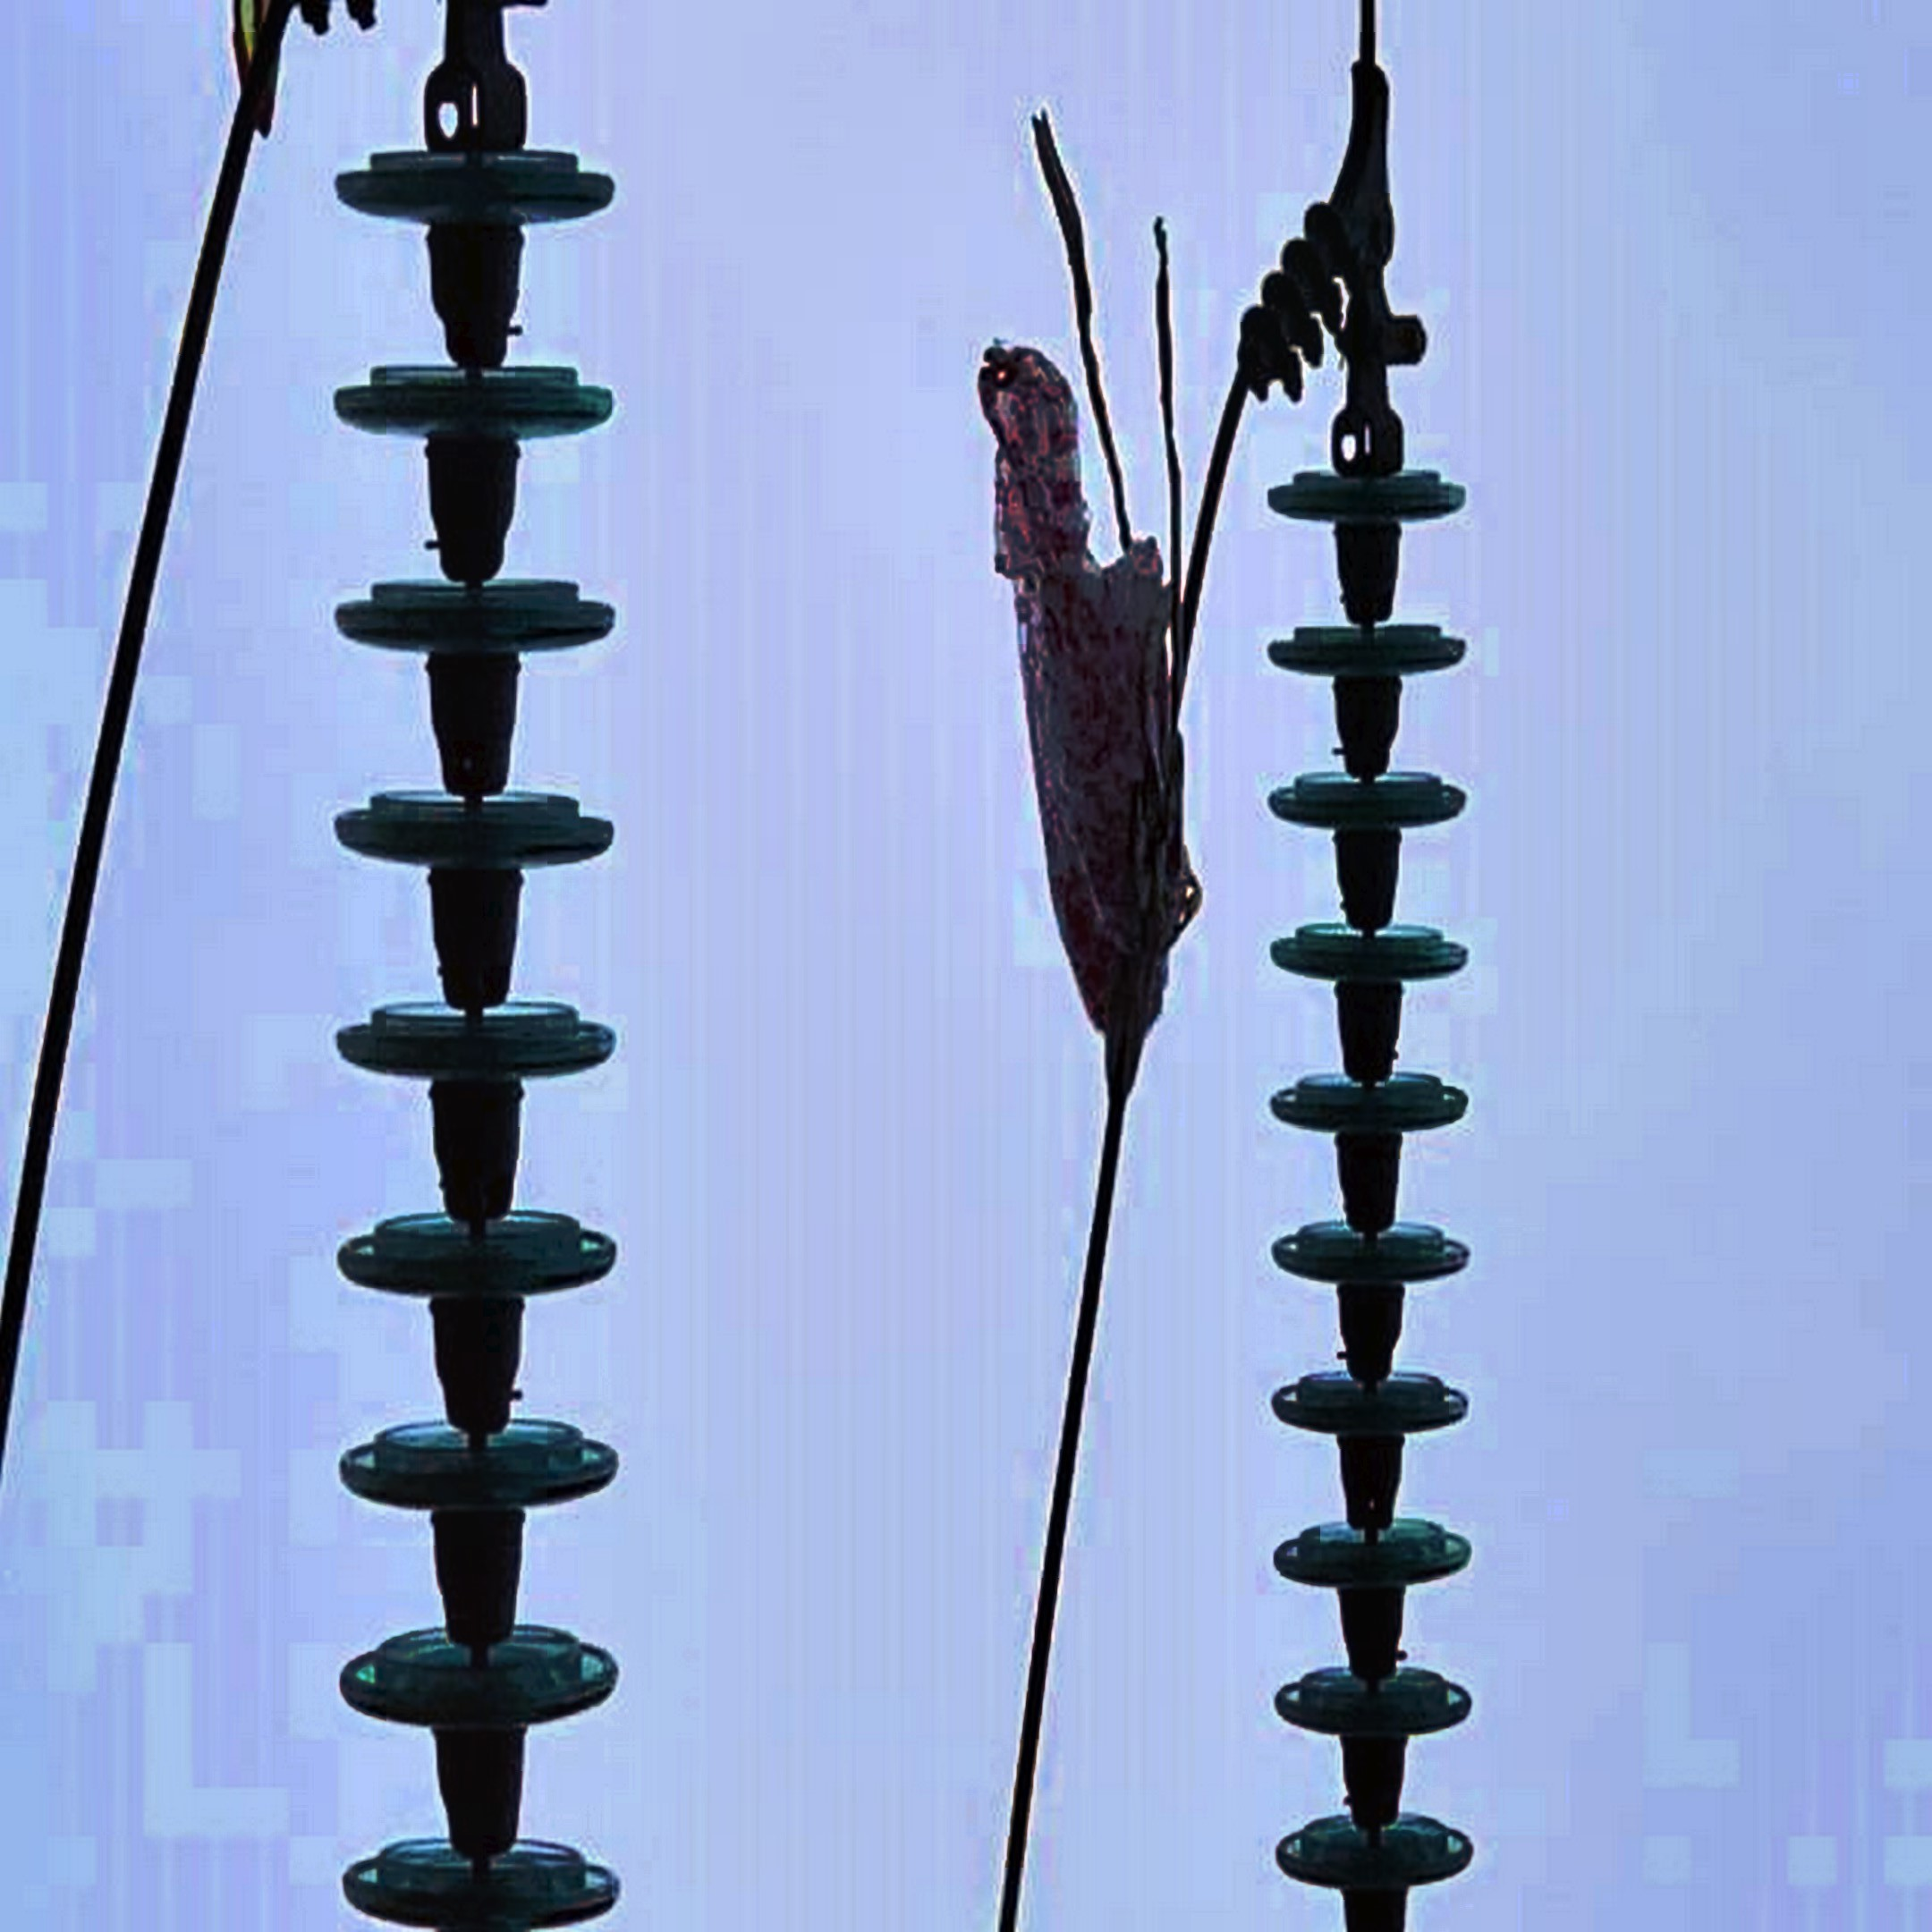wire foreign body: (920, 317, 1246, 1109)
